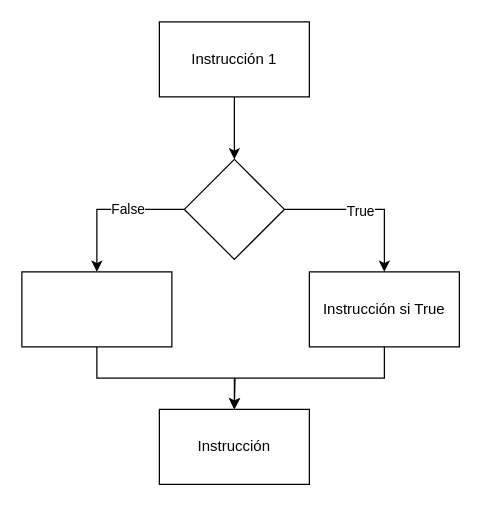
Image size: 481x506. Some labels were removed from this diagram. Here are the shapes that lost their labels. From the top down, the centre of each, then its label:
the point at 233,208: IF
the point at 96,309: Instrucción si False
